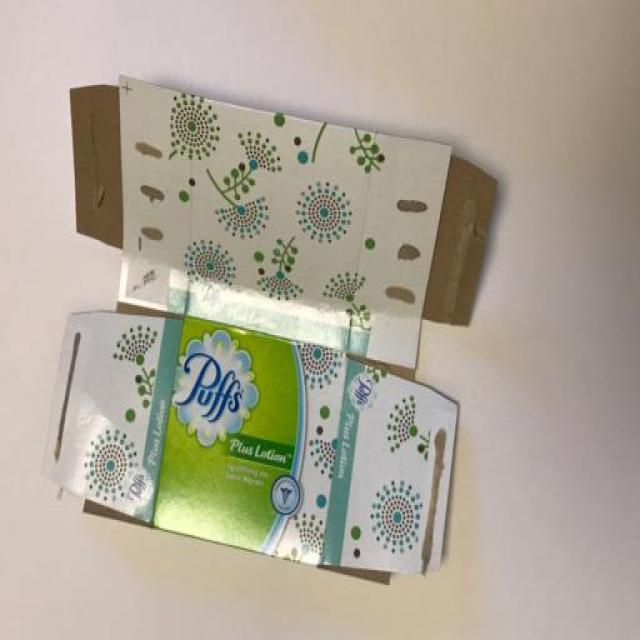cardboard: (51, 60, 510, 615)
